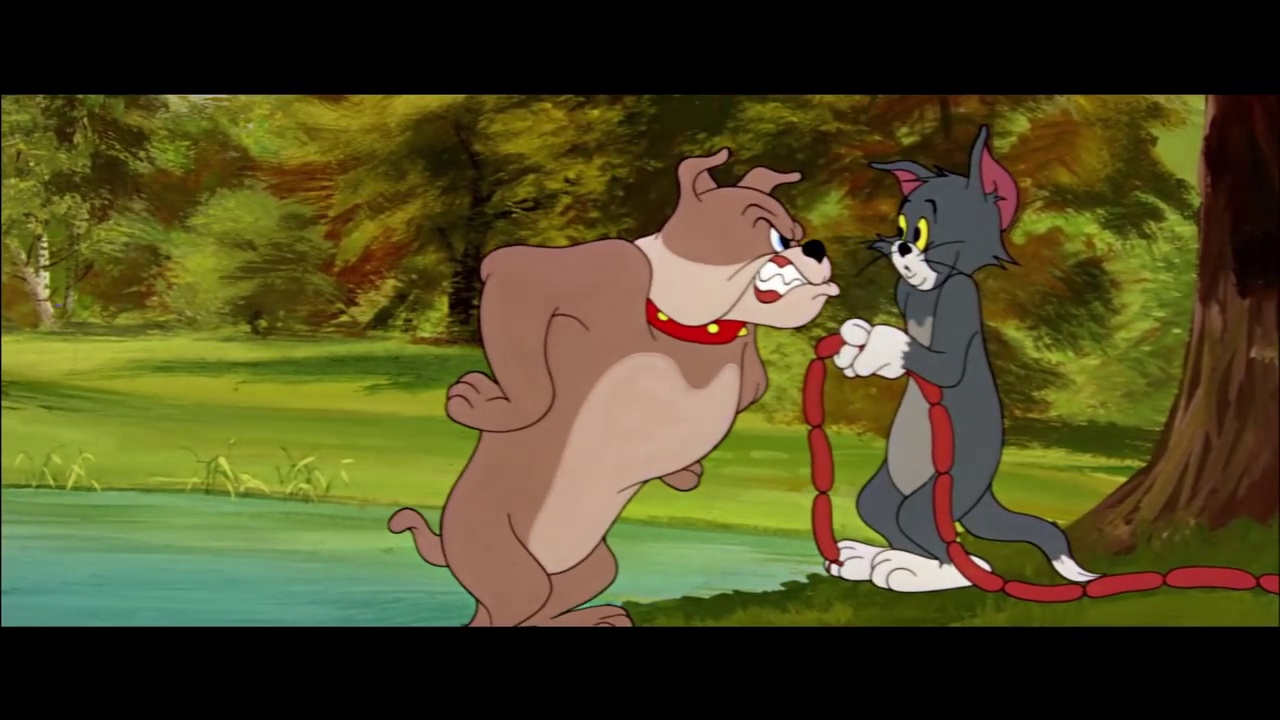spike: (640, 150, 840, 346)
tom: (865, 125, 1027, 292)
